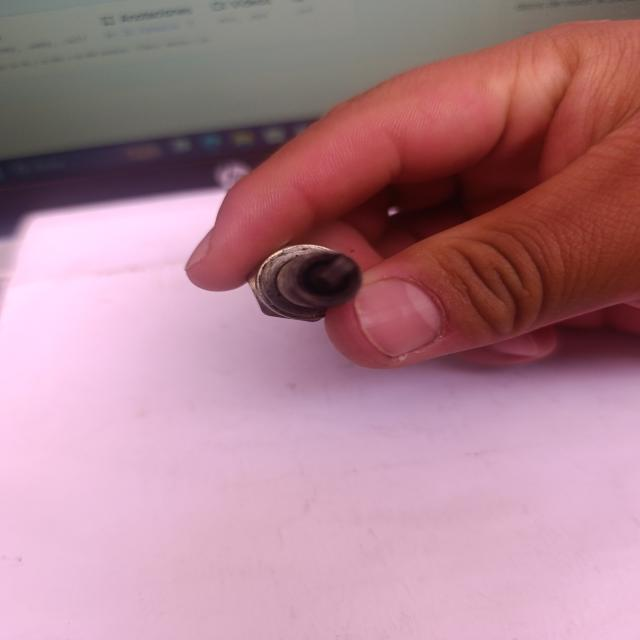bujia: (248, 244, 361, 322)
